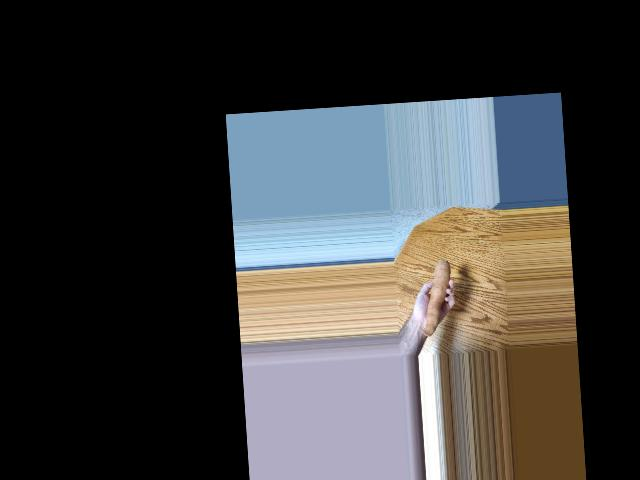sweet_potato: (422, 262, 456, 332)
